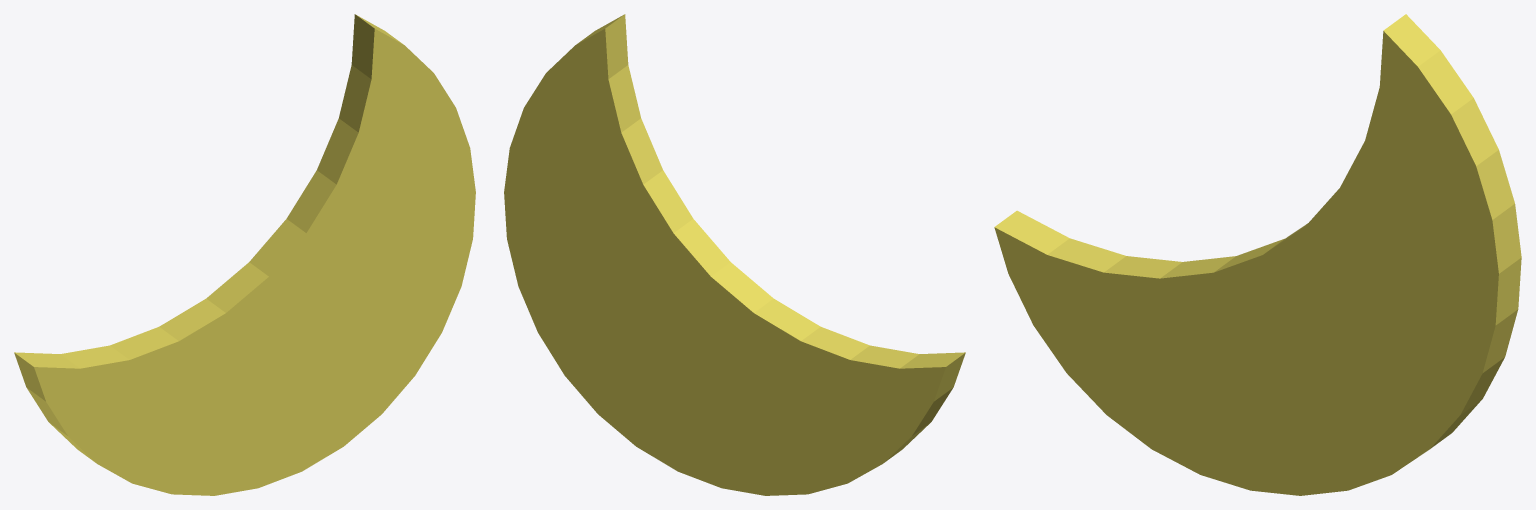
The model's file is moon.obj.
The picture shows the model from 3 angles, left to right: view 1: azimuth 30°, elevation 25°; view 2: azimuth 150°, elevation 25°; view 3: azimuth 330°, elevation 25°; orthographic projection. The views are drawn at different scales.
Parts seen in each view (by area): view 1: 箱.008; view 2: 箱.008; view 3: 箱.008.
Boxes of the visible parts, box(x1,y1,x2,y2) form: 箱.008: box(14, 14, 475, 495); 箱.008: box(504, 14, 965, 495); 箱.008: box(994, 14, 1521, 495).
Bounding box in the file's own units: 0.1815 × 0.1693 × 0.0142.
1 material, 1 textured.
